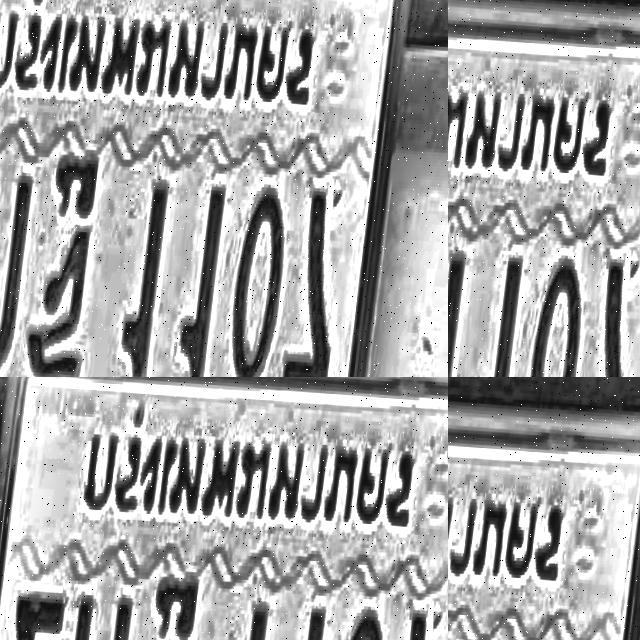license-plate: (448, 377, 640, 640), (0, 492, 292, 640)
